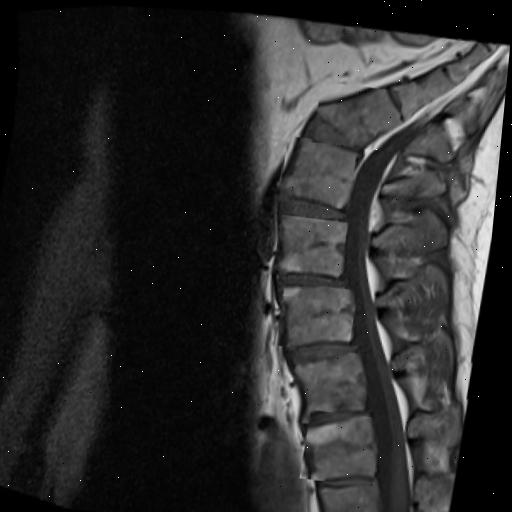L1: (313, 410, 385, 476)
L2: (301, 347, 374, 419)
L3: (287, 281, 360, 343)
L4: (284, 210, 352, 272)
L5: (283, 133, 359, 204)
S1: (318, 83, 402, 143)
